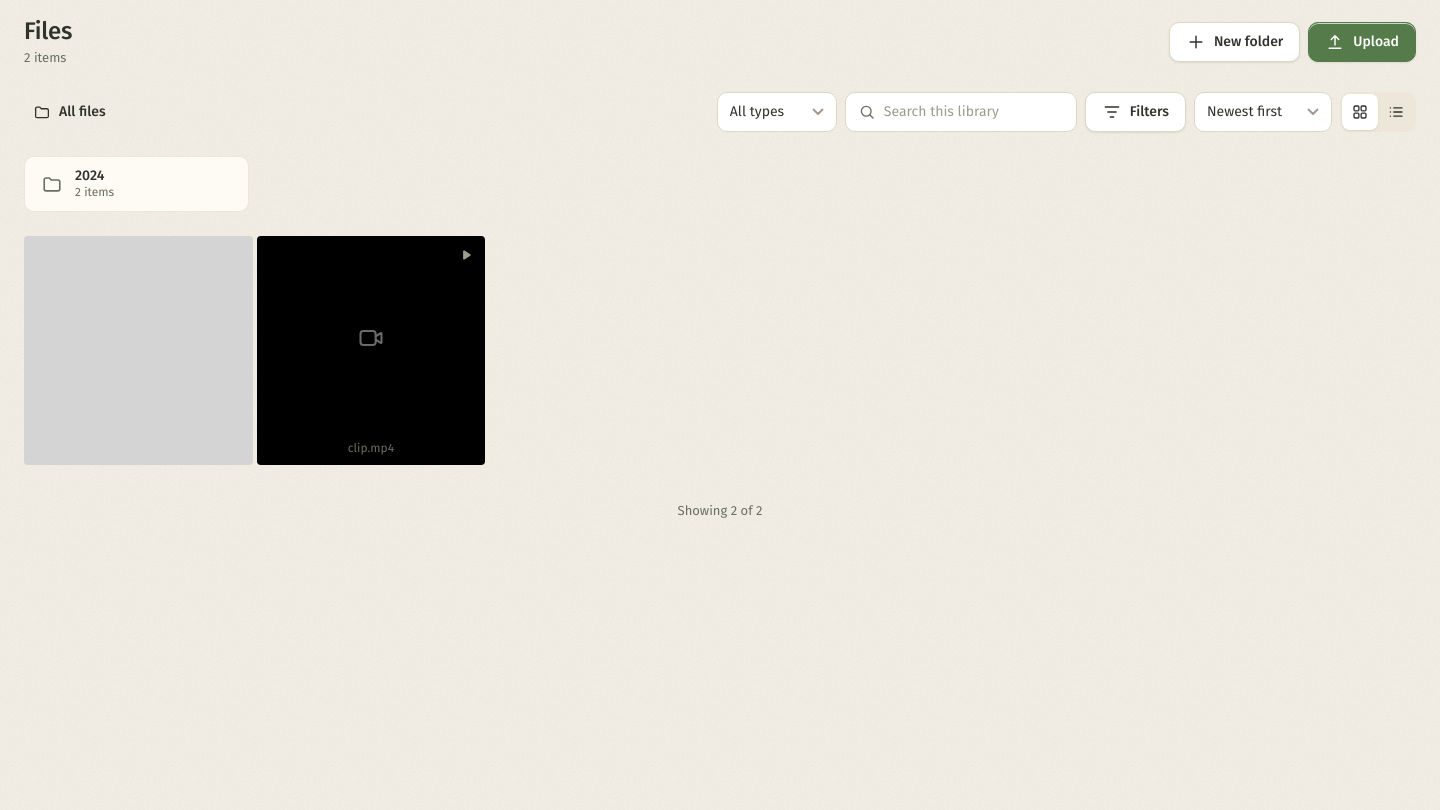
Test case: MediaPage › applies and clears the date and size filters
Expected: the element with test id "file-grid" is shown, [24,236,485,464]
Step 1. Click the button with test id "toggle-filters" → (1135,112), box [1085,92,1186,132]
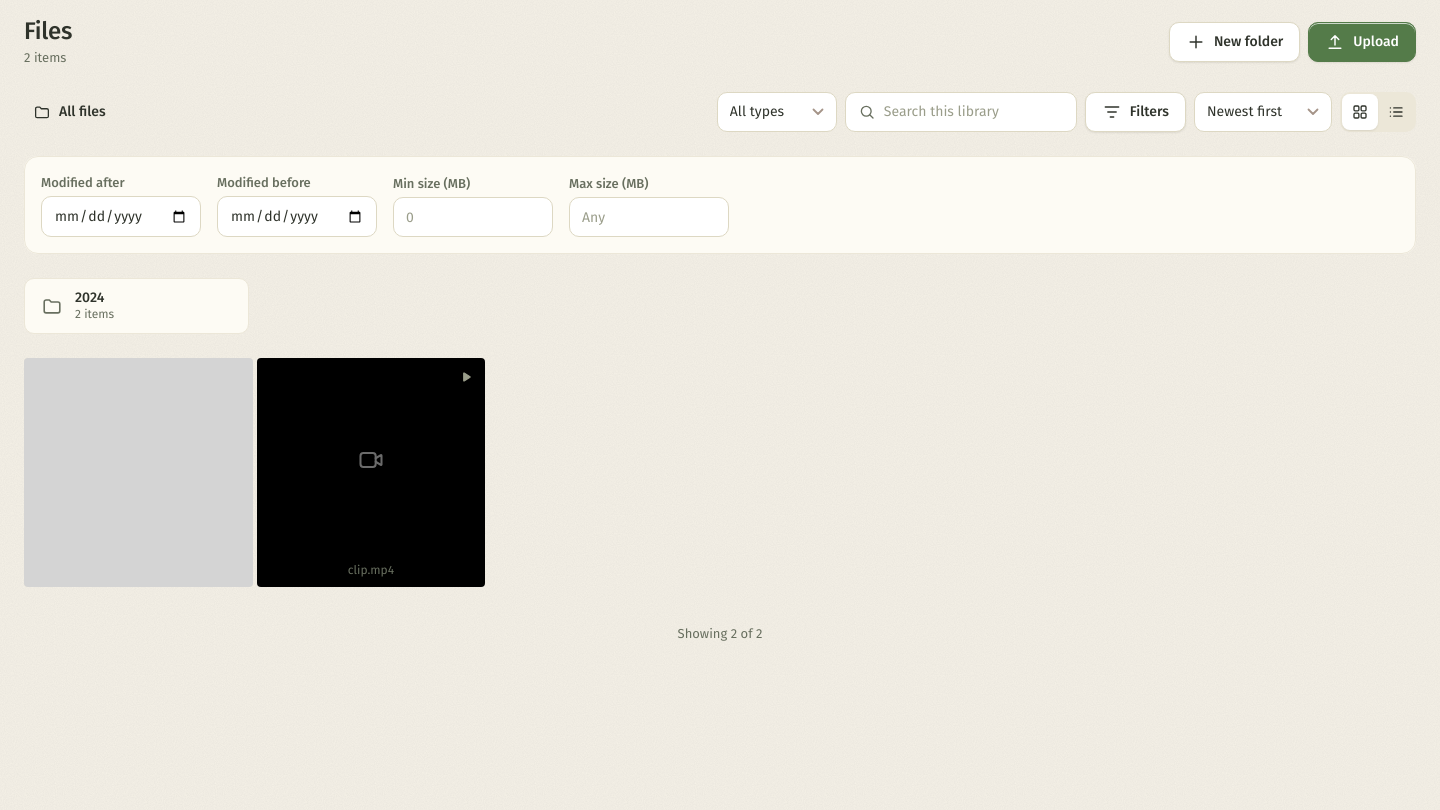
Step 2. Type "2" into the number field labelled "Min size (MB)" → (473,217), box [393,197,553,237]
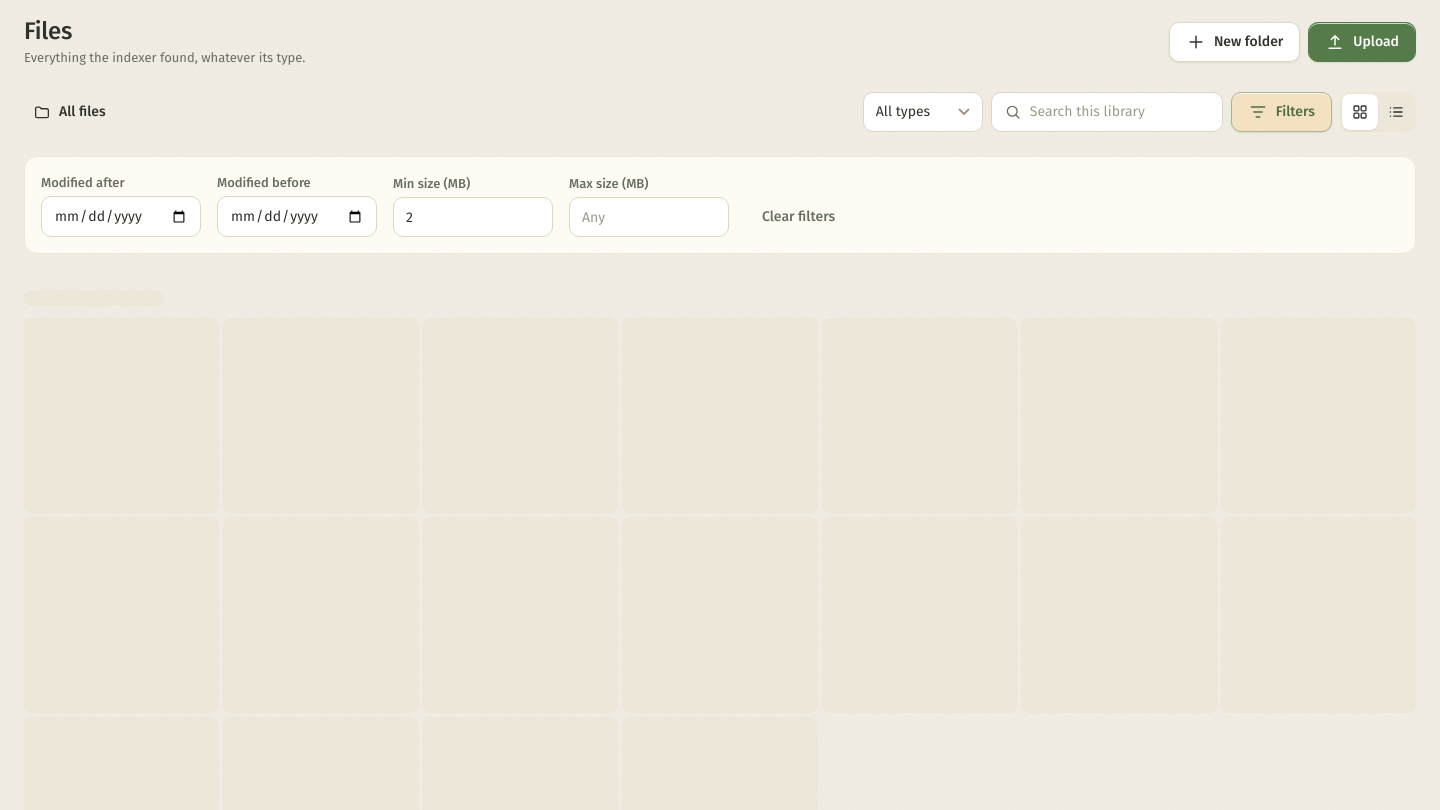
Step 3. Type "2026-01-01" into the date field labelled "Modified after" → (121,216), box [41,196,201,237]
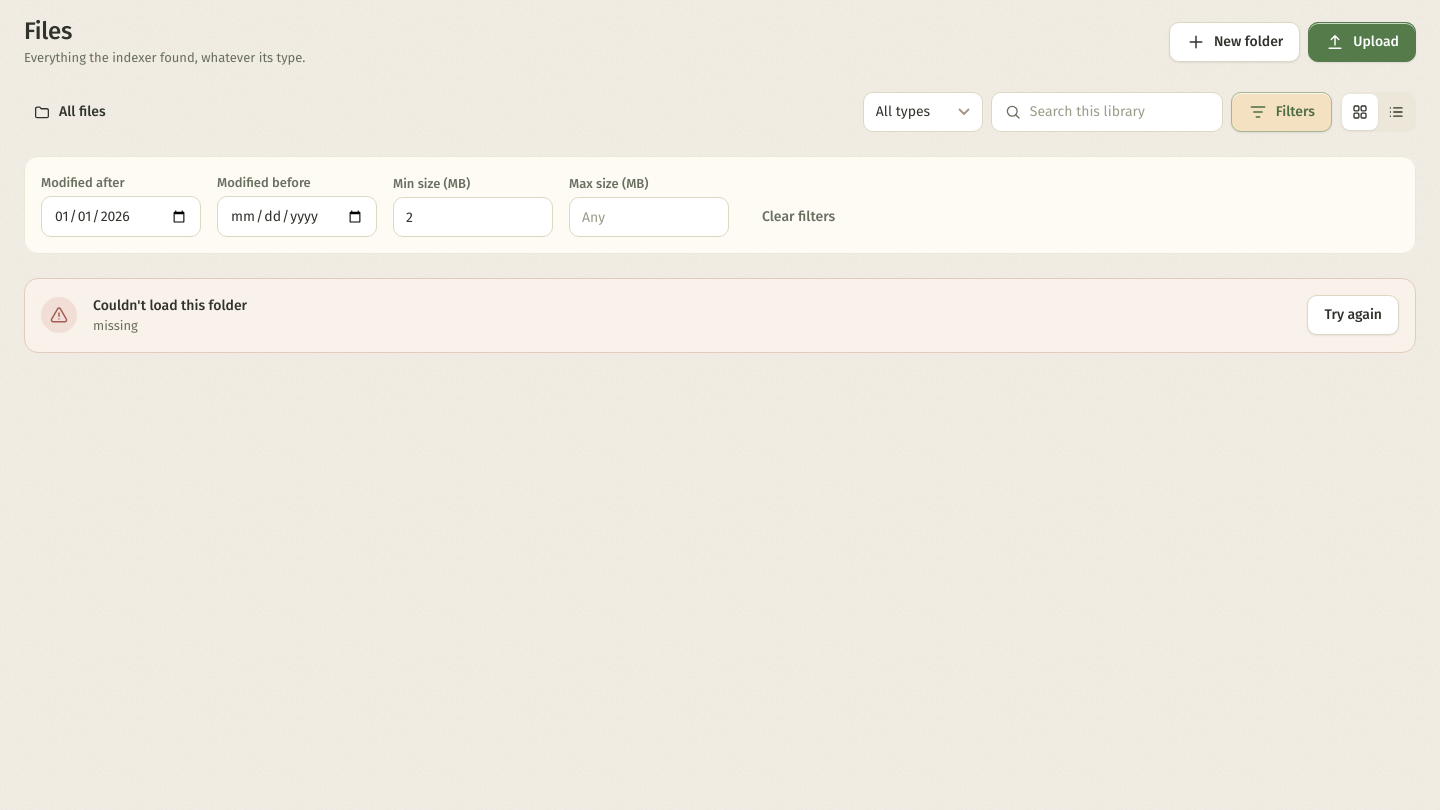
Step 4. Click the button "Clear filters" → (799,217), box [745,197,852,237]
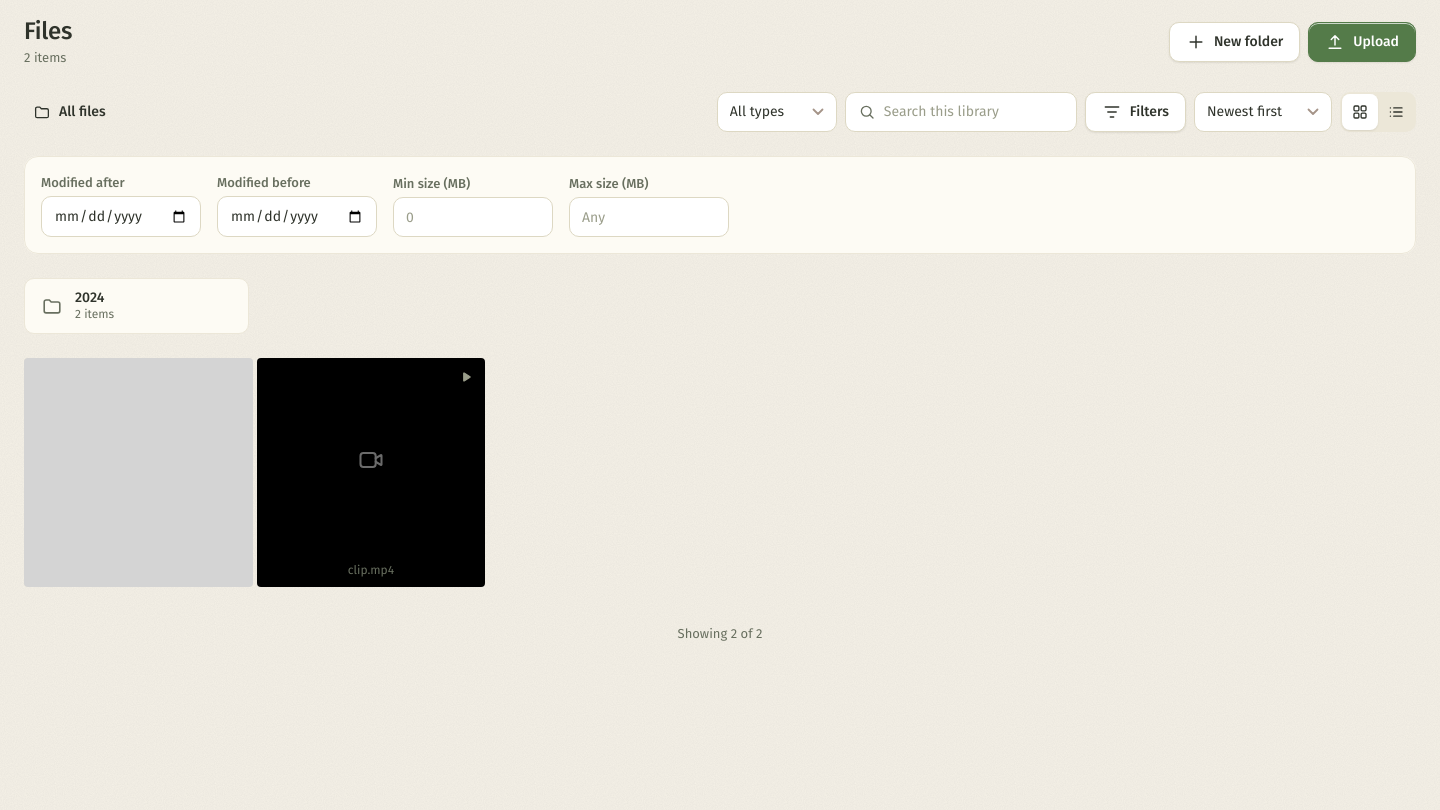
Expected: the number field labelled "Min size (MB)" is not empty, [393,197,553,237]
